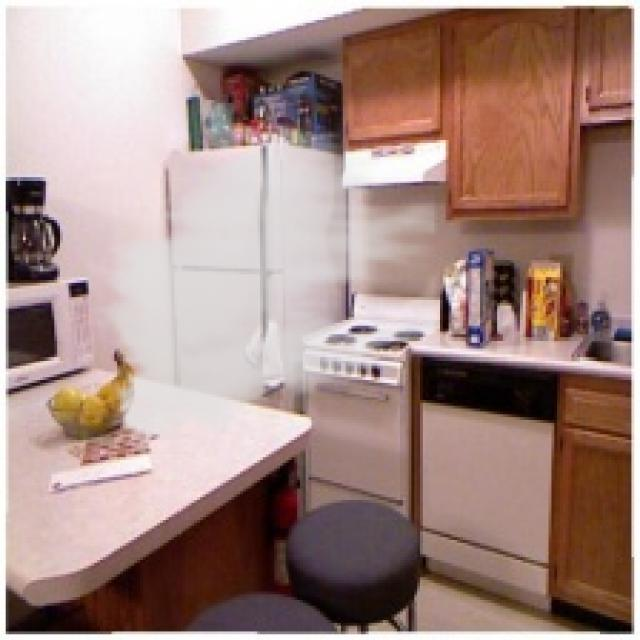smoke: (89, 112, 437, 457)
